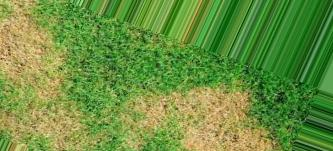patch: (119, 100, 184, 128), (10, 31, 57, 64), (23, 112, 78, 139), (17, 72, 60, 106), (201, 130, 255, 151), (188, 99, 242, 117)
